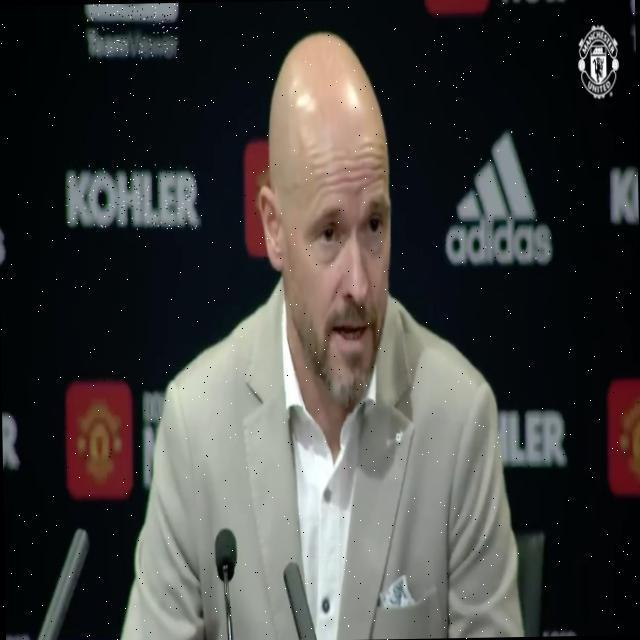Adidas: (445, 129, 551, 265)
Kohler: (65, 164, 200, 232)
TeamViewer: (86, 3, 181, 59)
